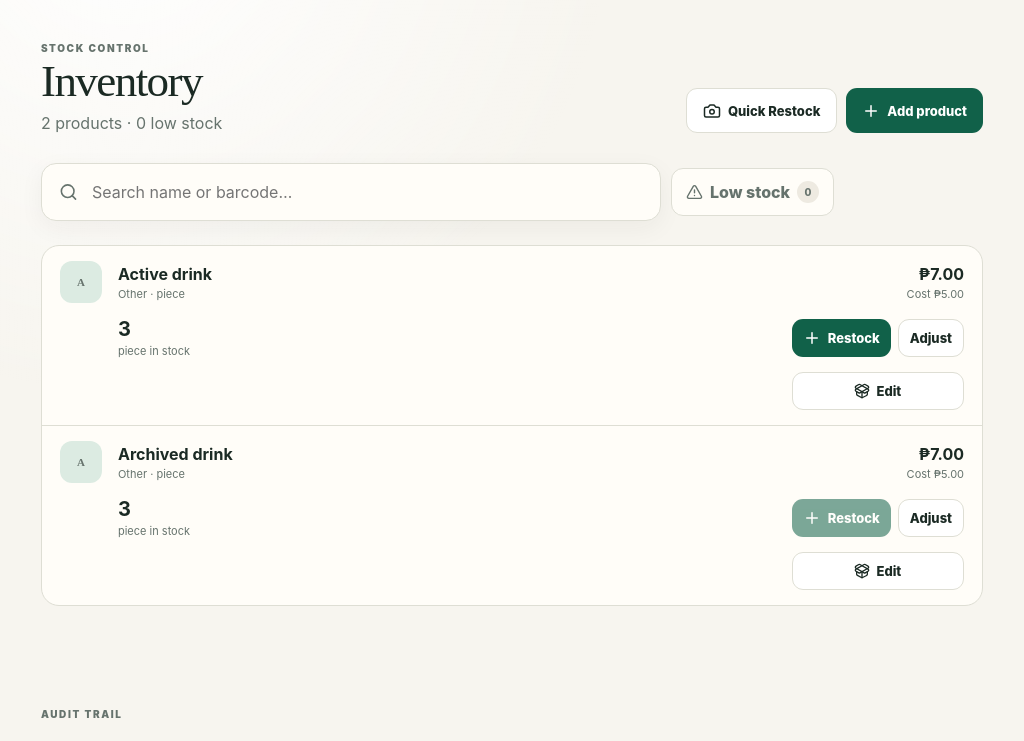
Utang search and app modal improvements › opens restock directly from an active inventory row and disables it for inactive products
Expected: the button with aria-label "Restock Archived drink" is disabled, [792, 499, 891, 537]
Click the button with aria-label "Restock Active drink" at (841, 338), box [792, 319, 891, 357]
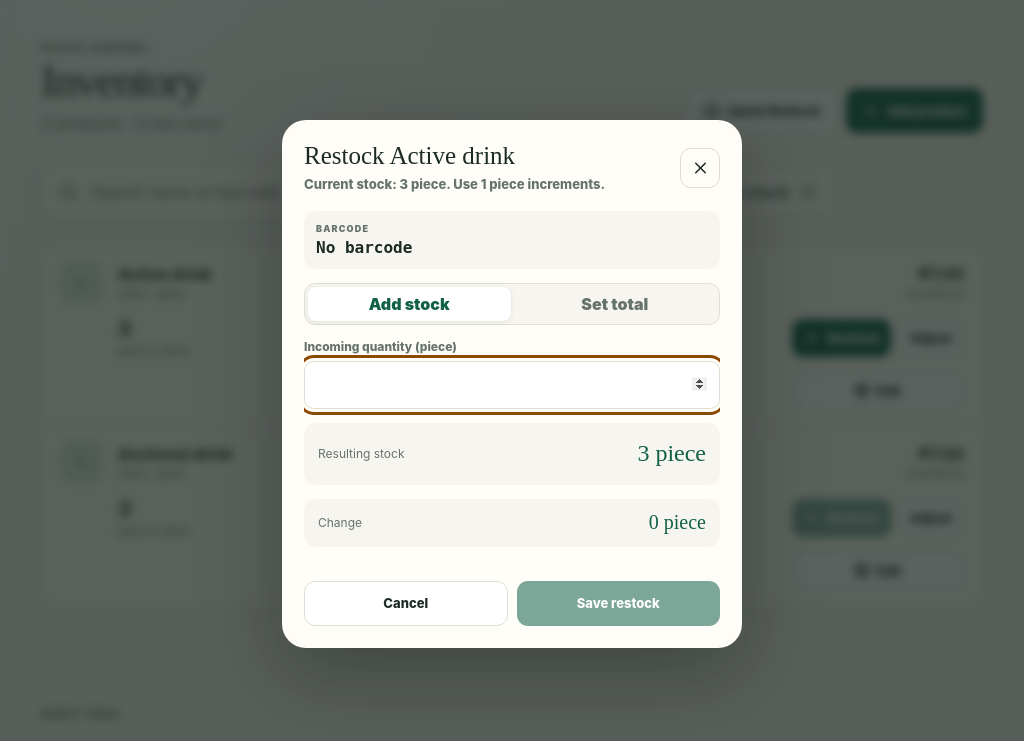
Expected: the dialog "Restock Active drink" is shown, [282, 120, 742, 648]
